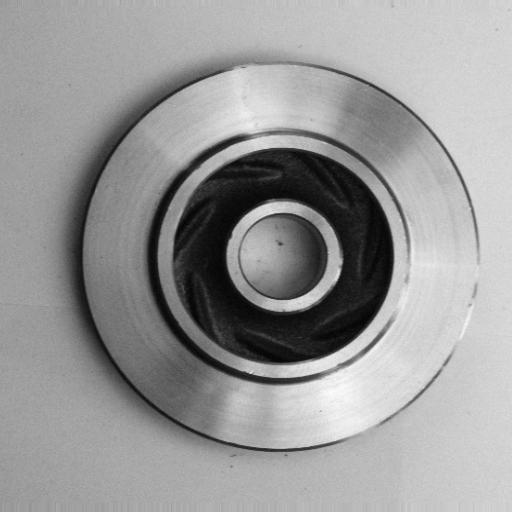scratch: (387, 254, 429, 332)
unpolished_casting: (75, 57, 482, 454)
